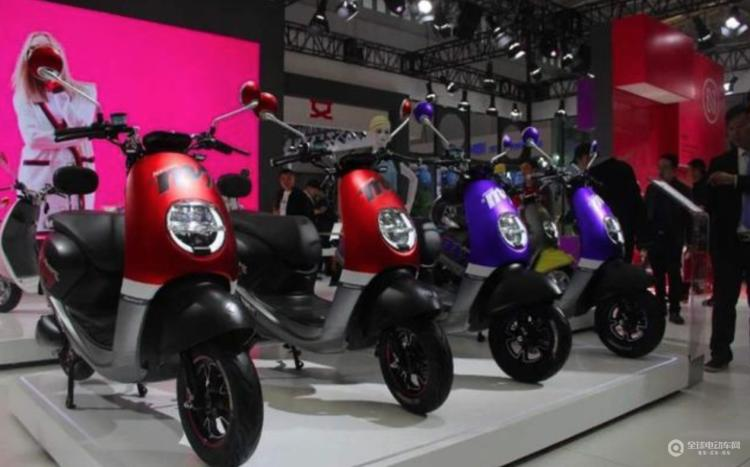电动车: (24, 57, 283, 467), (234, 87, 458, 415), (398, 88, 580, 405), (516, 124, 686, 380)
